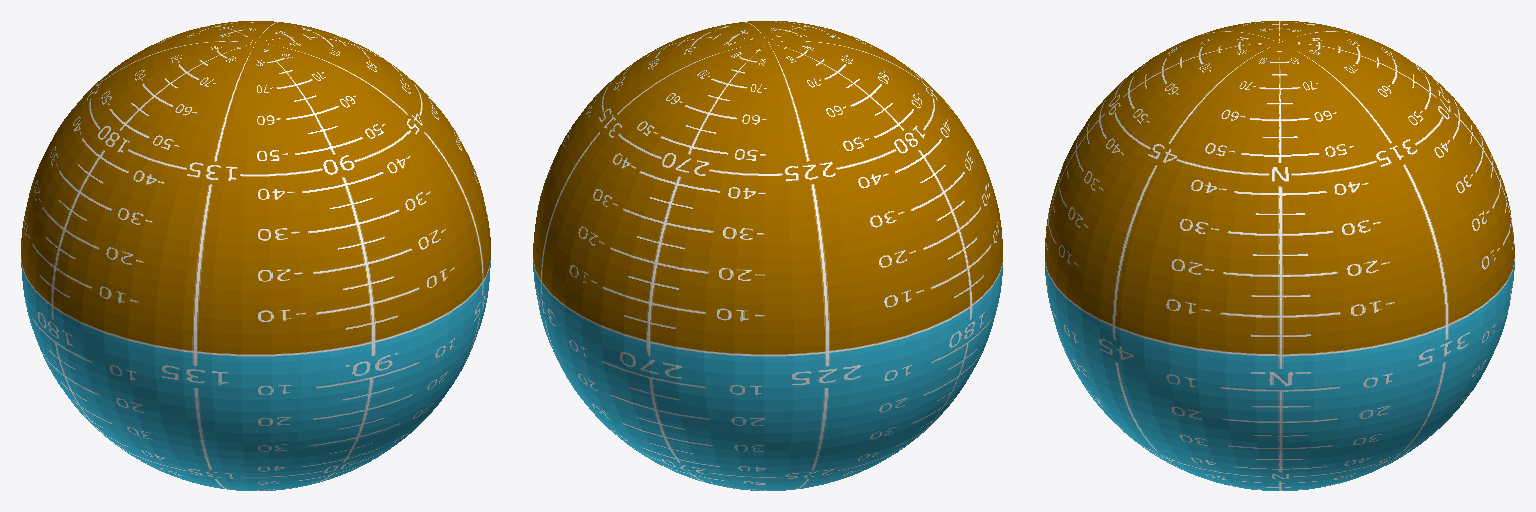
The picture shows the model from 3 angles: view 1: azimuth 30°, elevation 25°; view 2: azimuth 150°, elevation 25°; view 3: azimuth 270°, elevation 25°; orthographic projection.
Parts seen in each view (by area): view 1: Grid_Grid.001; view 2: Grid_Grid.001; view 3: Grid_Grid.001.
Part boxes in pixels (x1,y1,x2,y2): Grid_Grid.001: (21,21,490,490); Grid_Grid.001: (533,21,1002,490); Grid_Grid.001: (1045,21,1514,490).
Size of the model in its own units: 0.9989 by 1 by 0.9987.
Materials: 1 (1 with a texture image).